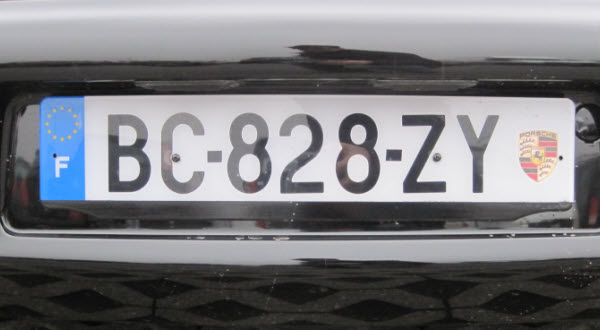license_plate: (37, 95, 574, 203)
